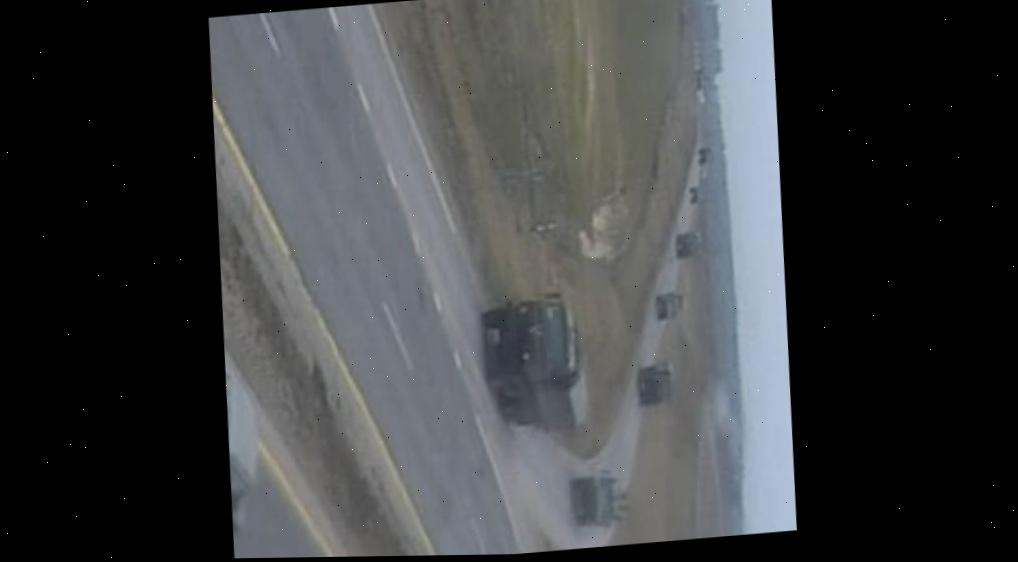car: (568, 466, 638, 534), (651, 290, 690, 322), (685, 180, 711, 209)
truck: (478, 284, 600, 443), (625, 357, 685, 424), (669, 224, 706, 264), (695, 144, 716, 169)
